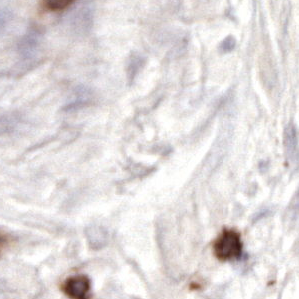Lymphocyte: (216, 227, 245, 260)
